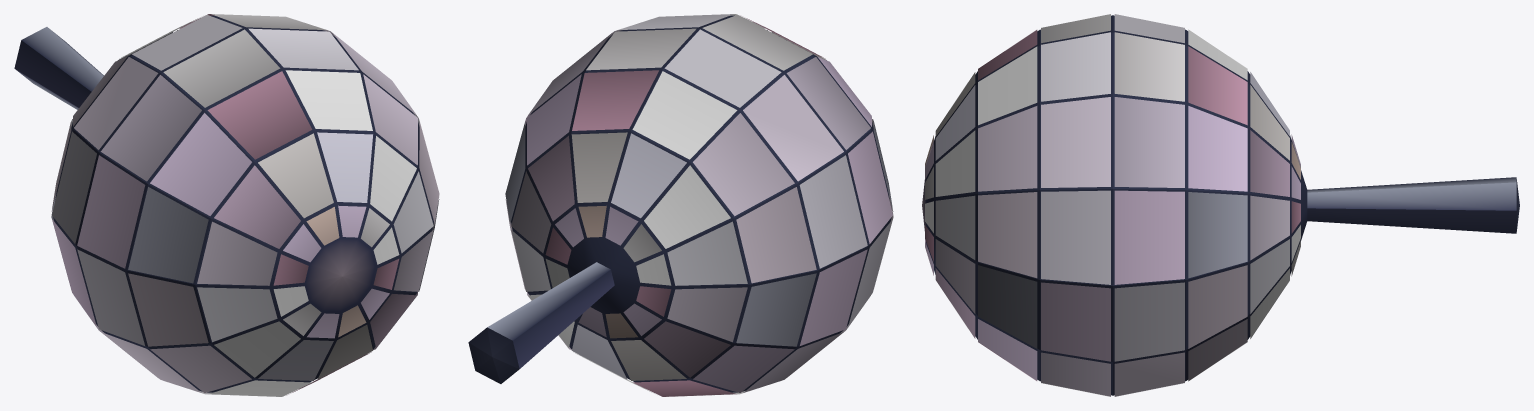
Rendered from PartySubDiscoBall.fbx.
The picture shows the model from 3 angles, left to right: view 1: azimuth 30°, elevation 25°; view 2: azimuth 150°, elevation 25°; view 3: azimuth 270°, elevation 25°; orthographic projection.
Visible parts, largest first — view 1: PartySubDiscoBall; view 2: PartySubDiscoBall; view 3: PartySubDiscoBall.
Boxes of the visible parts, bbox=[...] form: PartySubDiscoBall: bbox=[14, 14, 439, 396]; PartySubDiscoBall: bbox=[468, 14, 893, 396]; PartySubDiscoBall: bbox=[922, 14, 1519, 396].
Size of the model in its own units: 201 by 201 by 313.
